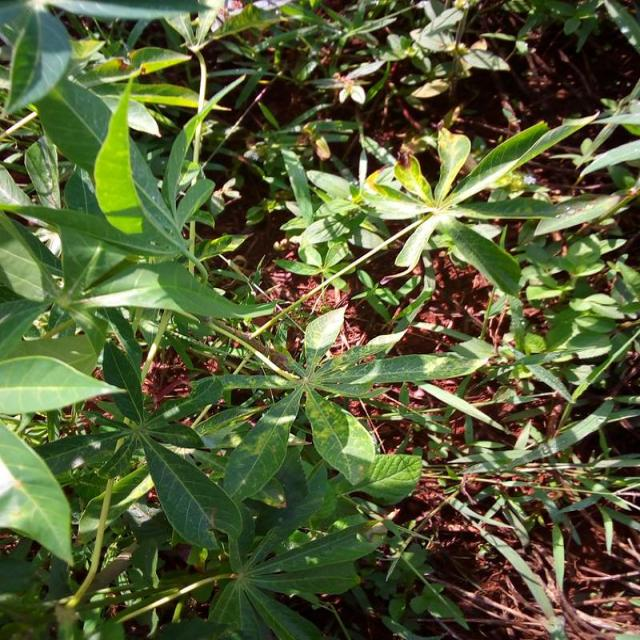cassava leaf: (0, 419, 74, 568)
